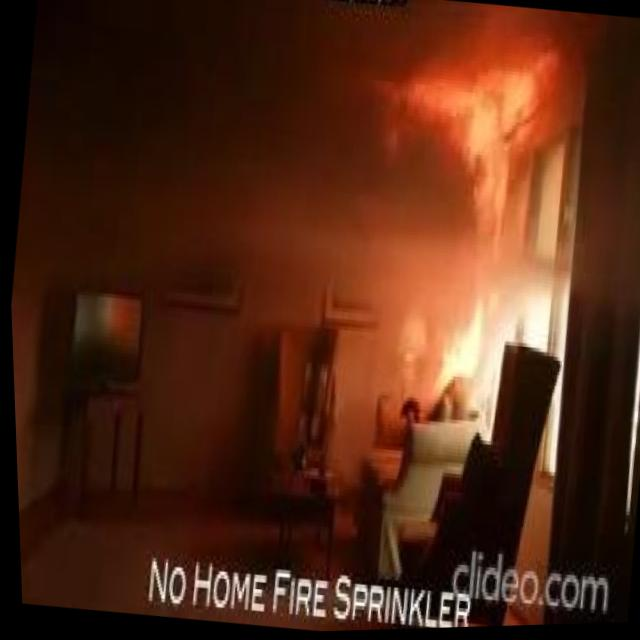fire: (402, 60, 518, 259), (430, 298, 483, 382), (506, 48, 554, 125)
